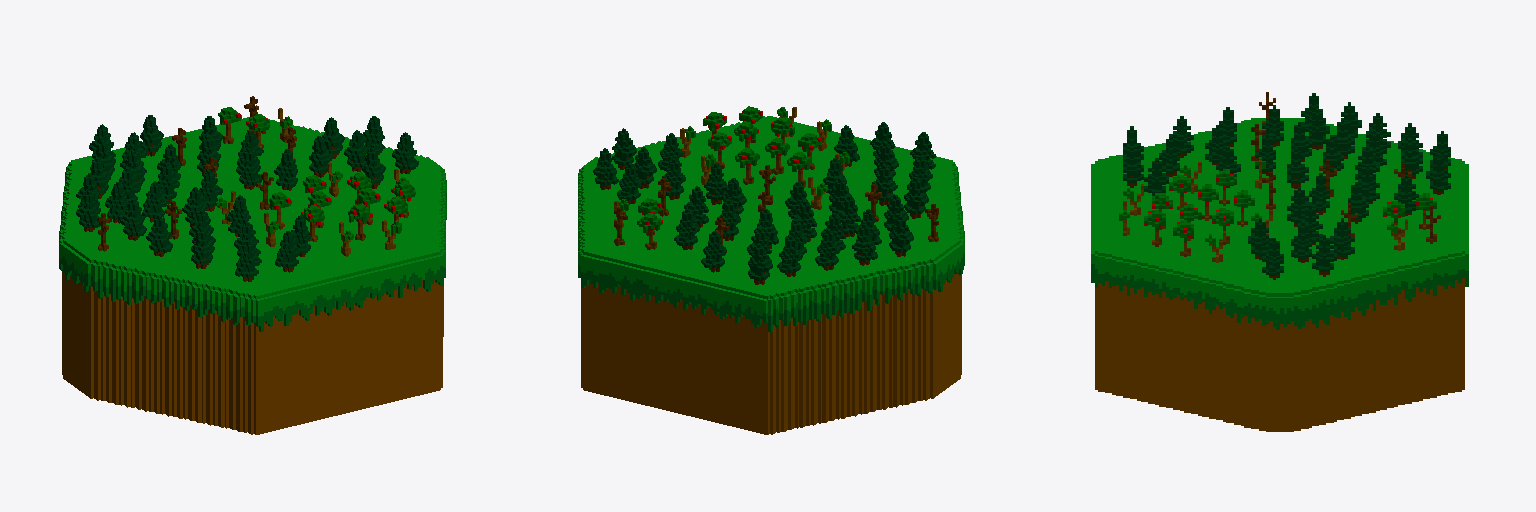
3 views of the same model, side by side, from view 1: azimuth 30°, elevation 25°; view 2: azimuth 150°, elevation 25°; view 3: azimuth 270°, elevation 25° (orthographic).
Parts seen in each view (by area): view 1: object 1; view 2: object 1; view 3: object 1.
Part boxes in pixels (x1,y1,x2,y2): object 1: (59, 96, 446, 434); object 1: (578, 106, 964, 434); object 1: (1091, 92, 1468, 431).
Bounding box in the file's own units: 11.8 × 5.5 × 10.6.
1 materials, 1 textured.